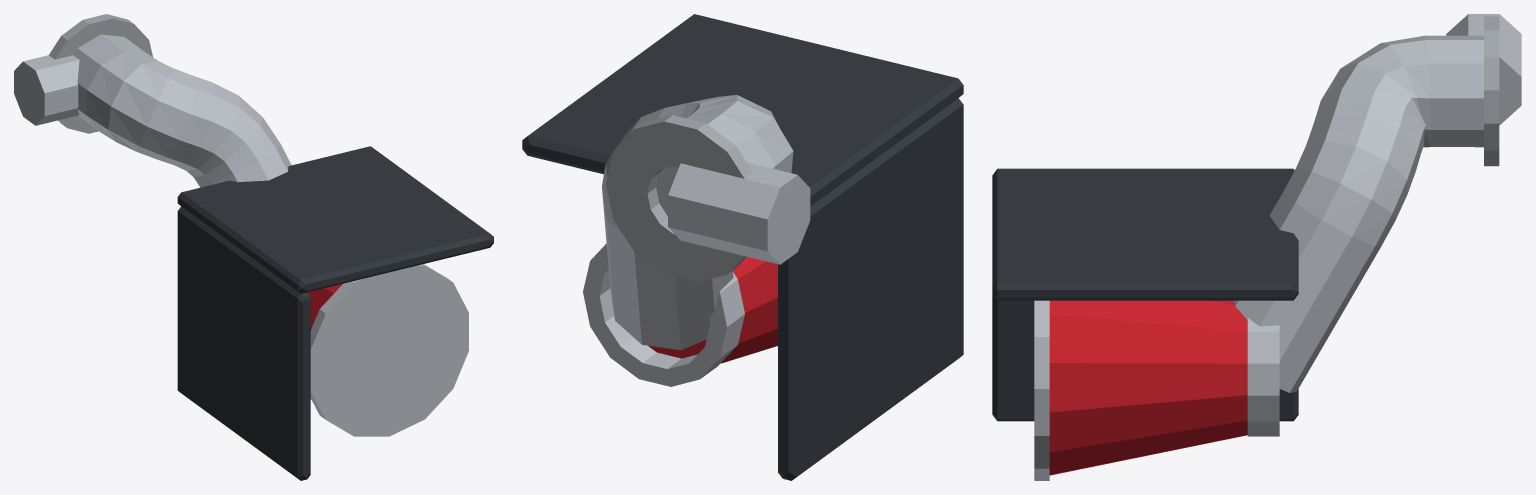
Rendered from vortex_r.glb.
3 renders of one model, left to right at view 1: azimuth 30°, elevation 25°; view 2: azimuth 150°, elevation 25°; view 3: azimuth 270°, elevation 25°, orthographic. The views are drawn at different scales.
Parts seen in each view (by area): view 1: model; view 2: model; view 3: model.
Boxes of the visible parts, box(x1,y1,x2,y2) form: model: box(14, 14, 493, 480); model: box(522, 14, 963, 480); model: box(992, 14, 1521, 480).
Size of the model in its own units: 0.3 by 0.3386 by 0.4146.
Materials: 2 (1 with a texture image).
